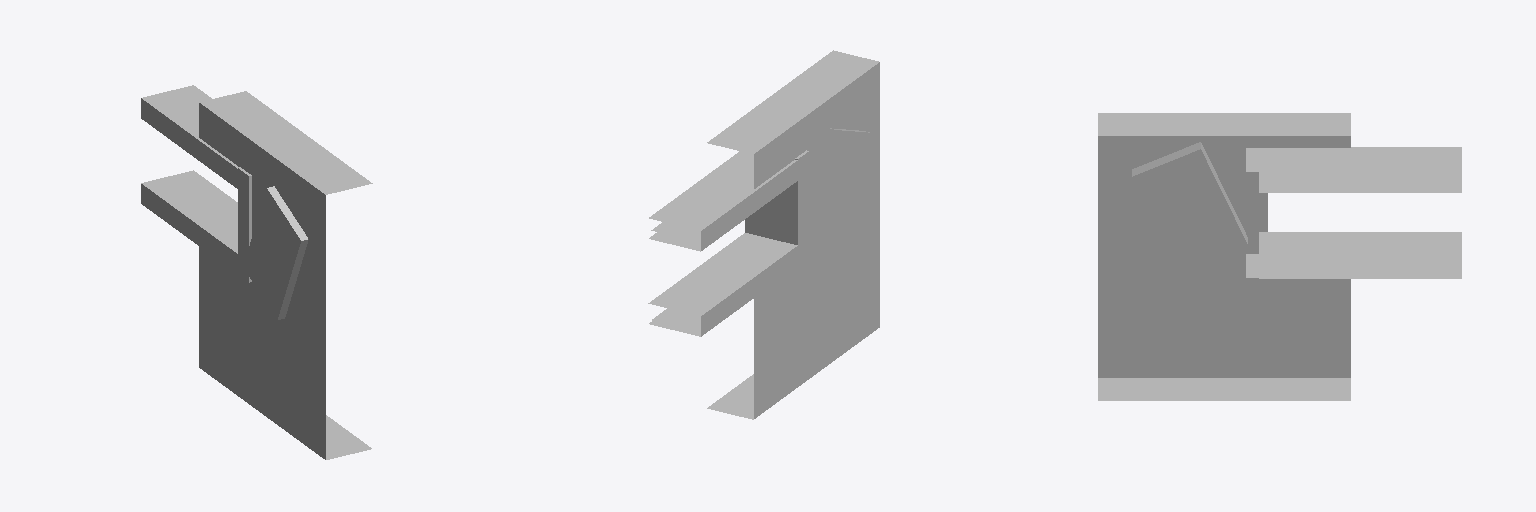
File: SHUTTER1.obj
3 renders of one model, left to right at view 1: azimuth 30°, elevation 25°; view 2: azimuth 150°, elevation 25°; view 3: azimuth 270°, elevation 25°, orthographic.
Visible parts, largest first — view 1: user; view 2: user; view 3: user.
Boxes of the visible parts, <box> form: user: <box>141,85,372,459</box>; user: <box>648,50,879,419</box>; user: <box>1098,113,1461,400</box>.
Bounding box in the file's own units: 29.4 × 129 × 161.